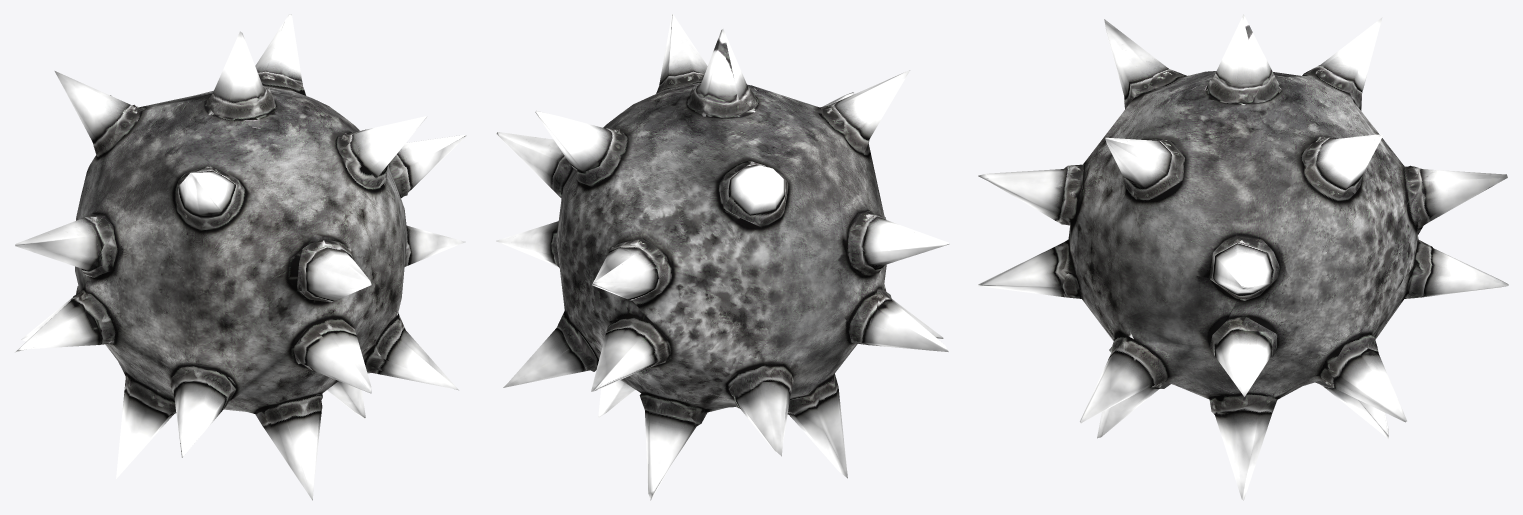
File: Rare.glb
The picture shows the model from 3 angles, left to right: view 1: azimuth 30°, elevation 25°; view 2: azimuth 150°, elevation 25°; view 3: azimuth 270°, elevation 25°; orthographic projection.
Parts seen in each view (by area): view 1: Mesh_0; view 2: Mesh_0; view 3: Mesh_0.
Part boxes in pixels (left/top/right/bottom): Mesh_0: left=15, top=14, right=466, bottom=500; Mesh_0: left=496, top=14, right=949, bottom=500; Mesh_0: left=978, top=14, right=1508, bottom=500.
Size of the model in its own units: 1.91 by 1.69 by 1.91.
Materials: 1 (1 with a texture image).
